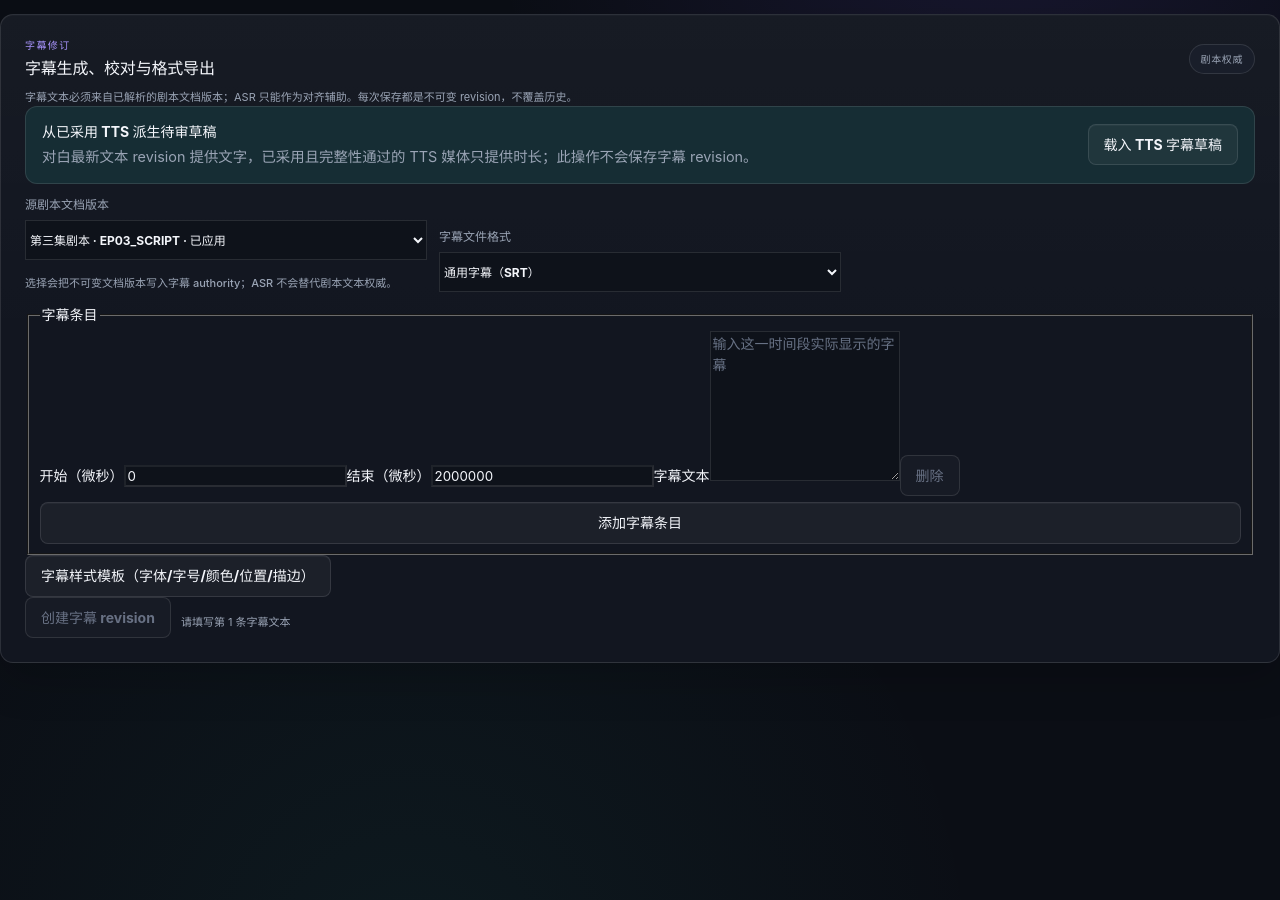
Test: SubtitleRevisionPanel source authority › loads a reviewable draft from current TTS selections without creating a revision
Click the button "载入 TTS 字幕草稿" at (1163, 145), box x1=1088 y1=124 x2=1238 y2=166
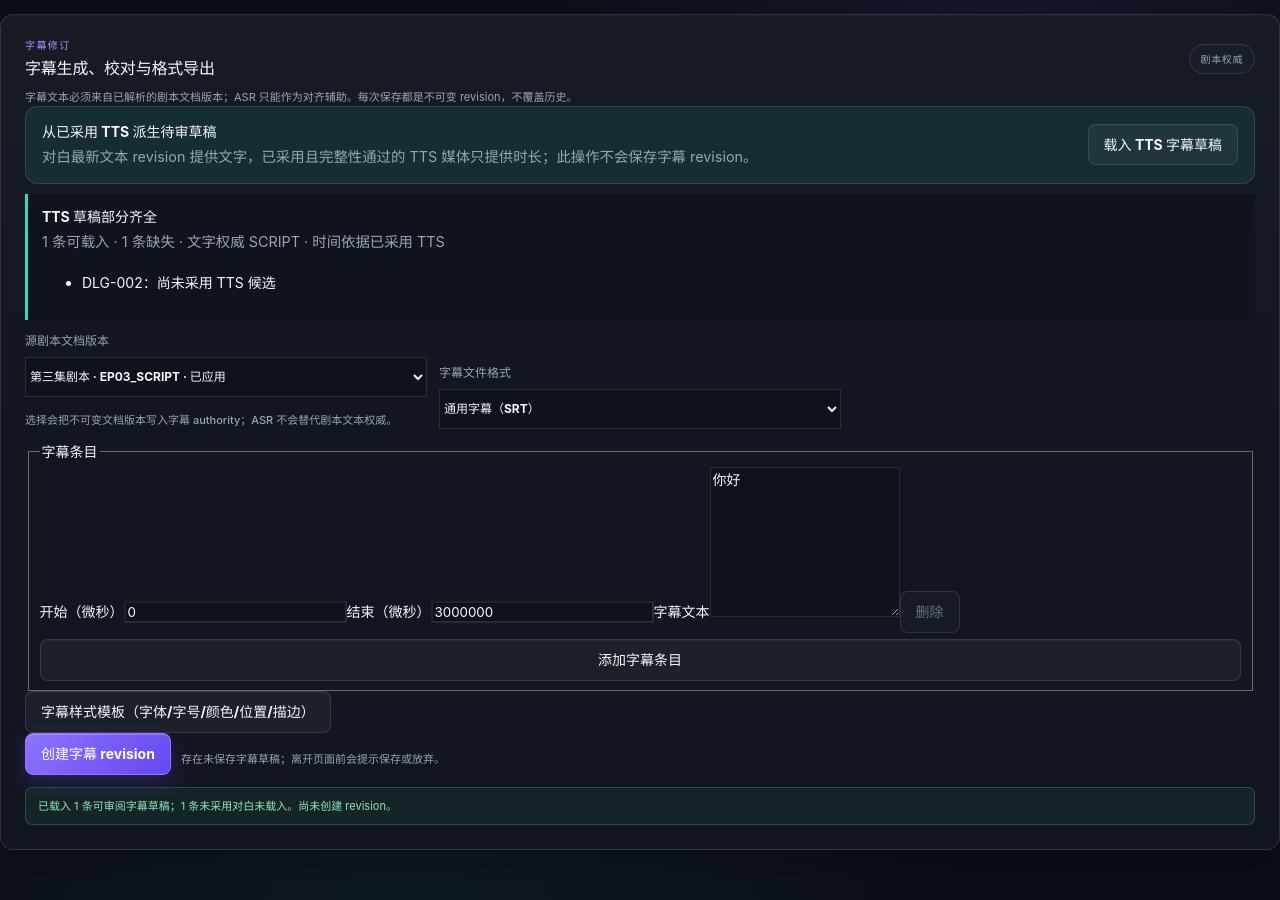
Expected: the text box named "字幕 1 文本" holds "你好", x1=710 y1=467 x2=900 y2=617
Expected: the text "TTS 草稿部分齐全" is shown, x1=42 y1=208 x2=157 y2=225
Expected: the list item "DLG-002：尚未采用 TTS 候选" is shown, x1=82 y1=274 x2=276 y2=291
